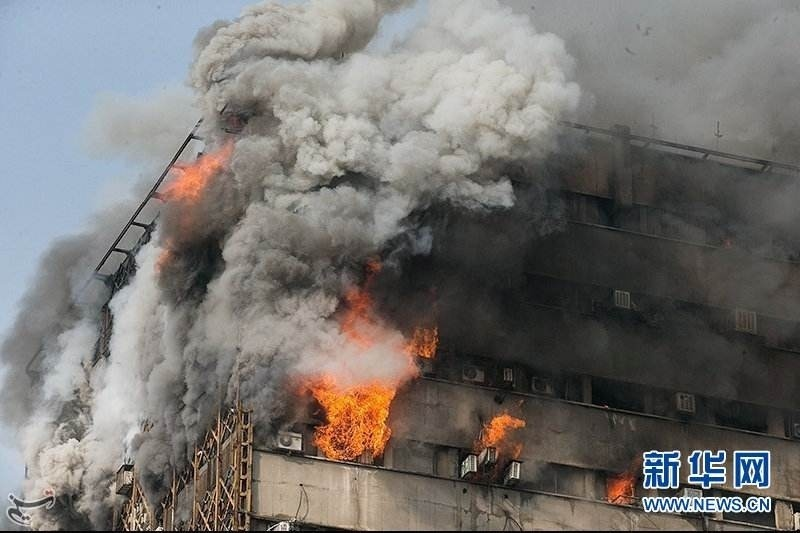fire: (297, 260, 438, 466), (160, 136, 234, 199), (474, 405, 528, 464), (605, 468, 638, 504)
